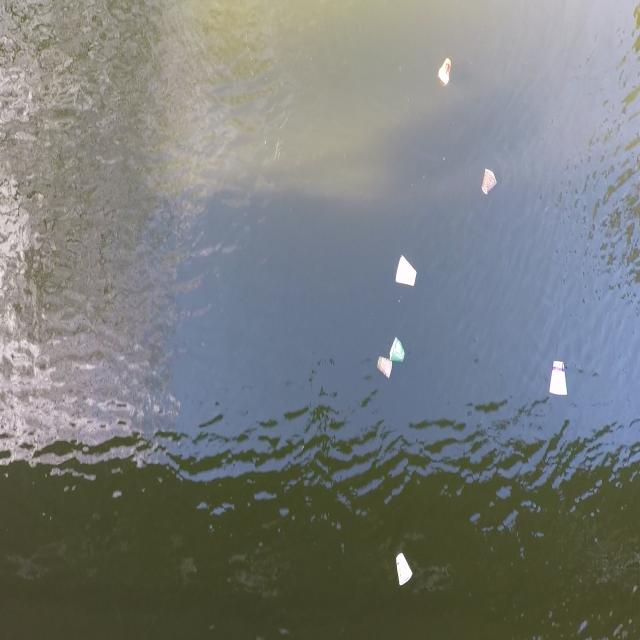Non plastique: (546, 353, 576, 406), (391, 251, 423, 298), (391, 551, 419, 595), (477, 161, 501, 204), (436, 52, 456, 89), (376, 352, 396, 388), (387, 336, 410, 364)
